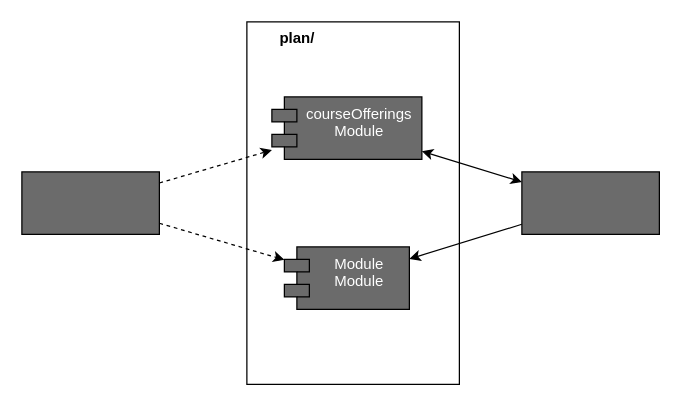
Some shapes in this 681 by 406 pixel diagram are drawn without their labels. Here are the shapes that lost their labels. From the top down, the centre of each, then its label:
point 90,202: shared/
point 590,202: StudyCourse Frontend
